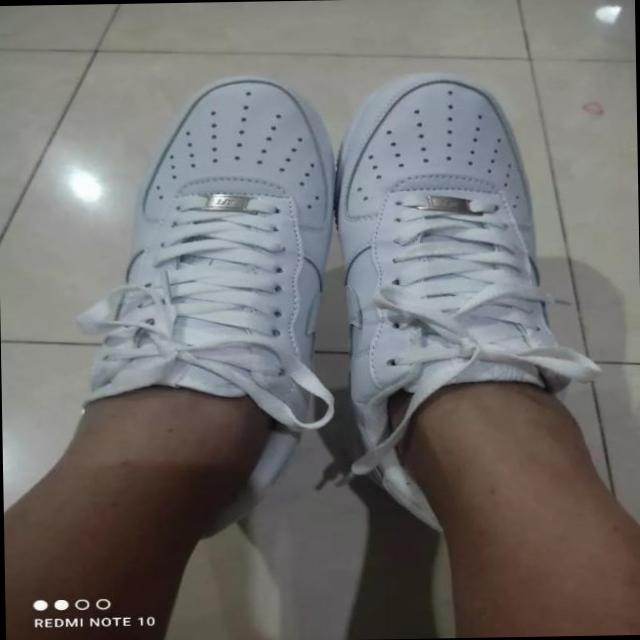nike_fake_airforce: (63, 70, 344, 537), (324, 74, 574, 531)
